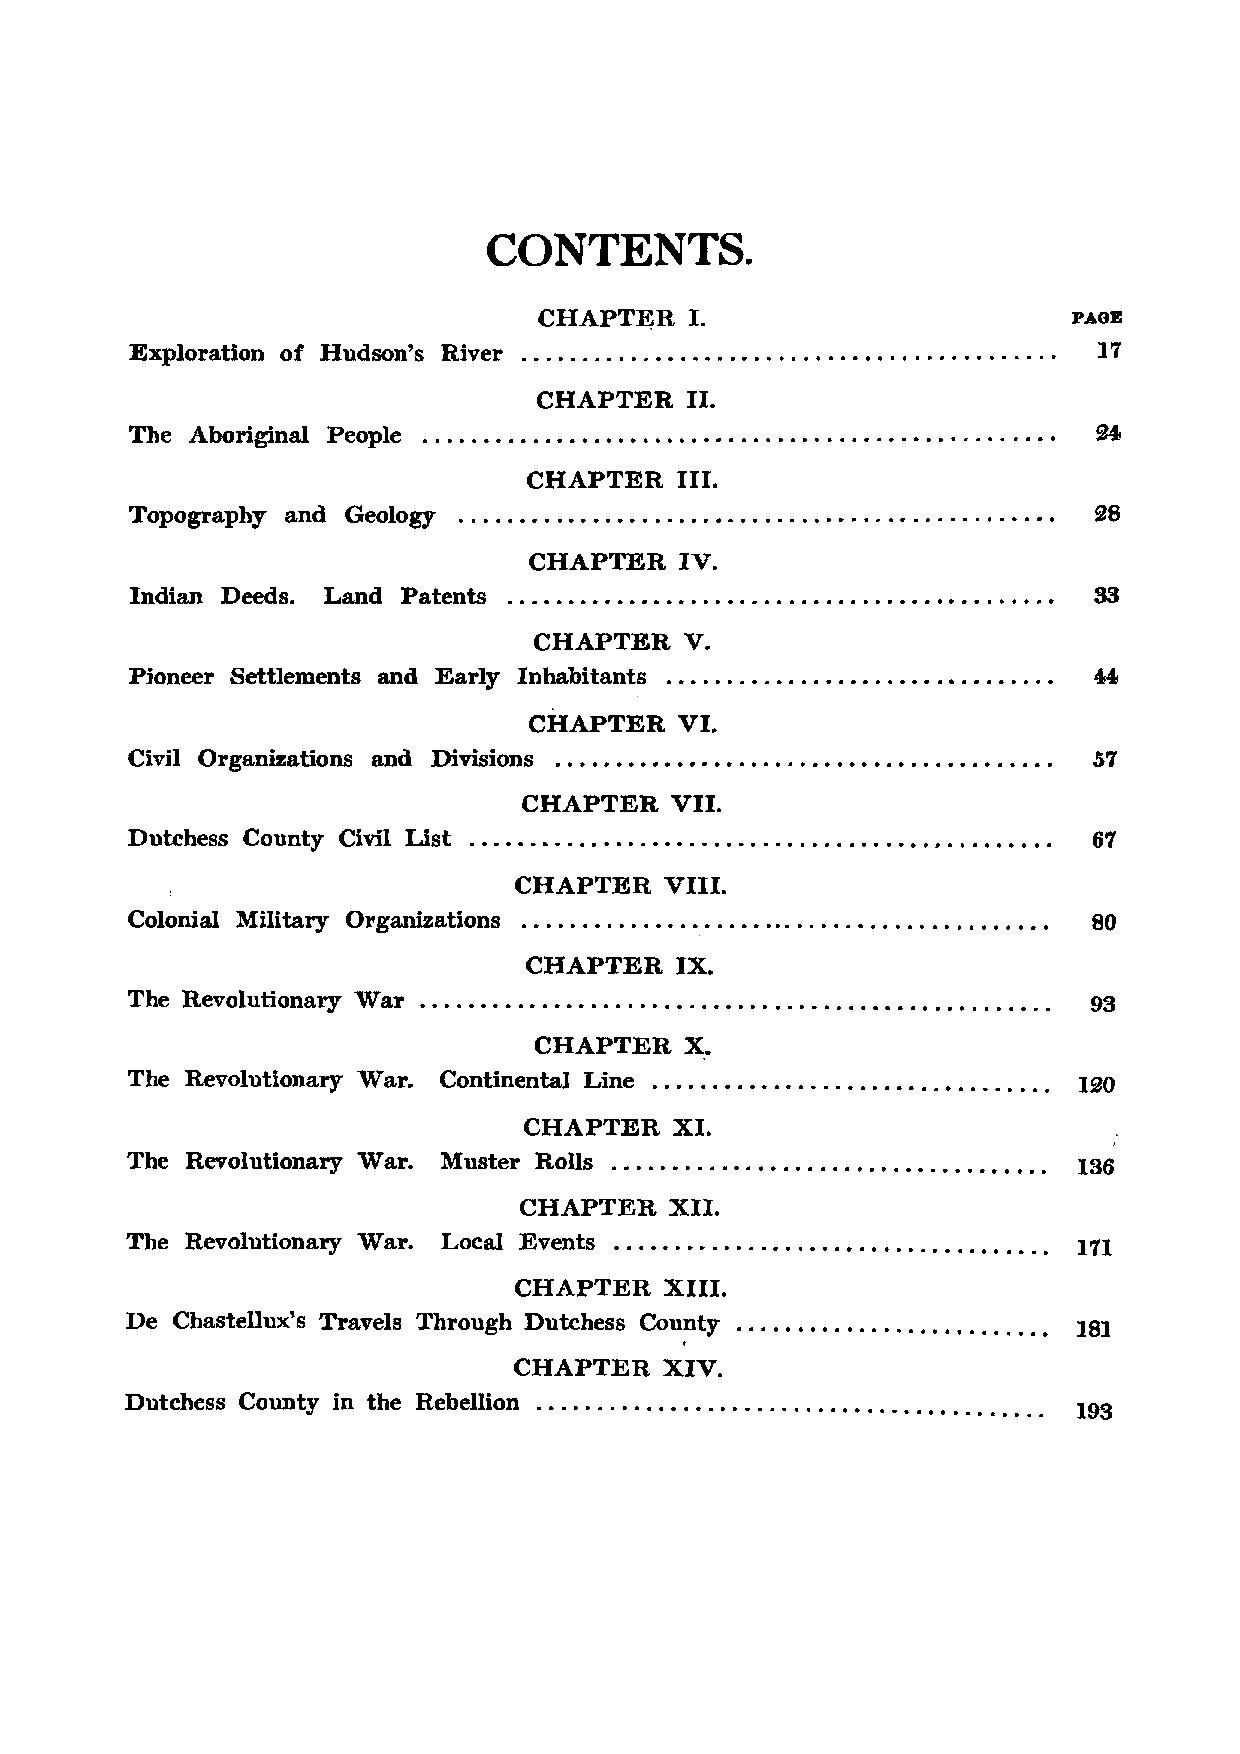TOC_chapter: (122, 1310, 723, 1337), (127, 1147, 596, 1176), (129, 663, 648, 687), (127, 1070, 639, 1092), (127, 745, 534, 772), (127, 1232, 596, 1255), (118, 1389, 523, 1414), (126, 824, 458, 854), (122, 502, 442, 530), (127, 909, 502, 931), (127, 584, 488, 607), (123, 341, 505, 362), (126, 423, 411, 450), (125, 986, 411, 1012), (510, 1275, 729, 1300), (511, 871, 729, 896), (518, 1194, 723, 1221), (517, 789, 723, 815), (509, 1355, 725, 1380), (522, 464, 722, 490), (521, 951, 717, 977), (527, 628, 714, 654), (519, 1114, 714, 1138), (525, 710, 718, 734), (525, 550, 718, 574), (530, 1032, 713, 1057), (534, 386, 718, 411), (534, 305, 709, 326)
TOC_pagenumber: (1075, 1397, 1113, 1427), (1076, 1314, 1117, 1341), (1074, 1232, 1111, 1260), (1076, 1153, 1114, 1180), (1075, 1074, 1115, 1098), (1092, 417, 1121, 450), (1087, 585, 1122, 611), (1090, 910, 1121, 935), (1096, 333, 1121, 362), (1092, 501, 1121, 525), (1091, 825, 1118, 849), (1092, 990, 1114, 1017), (1094, 746, 1115, 770), (1096, 668, 1119, 688)
chapter: (482, 227, 756, 266)
